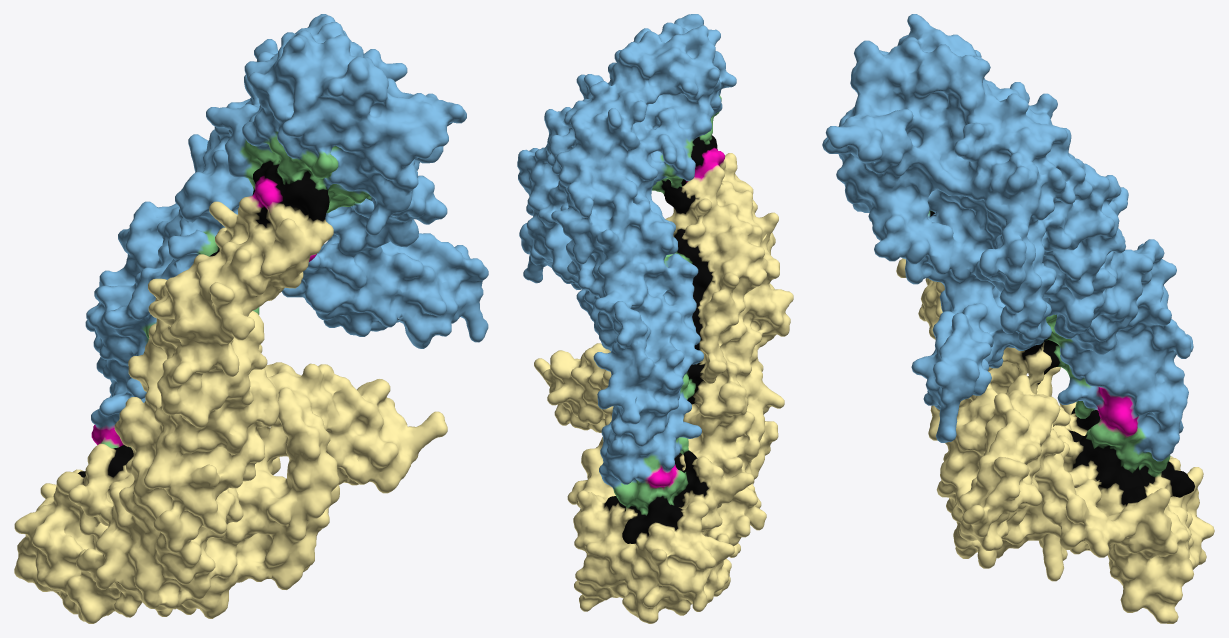
File: DimerInterface.glb
The picture shows the model from 3 angles, left to right: view 1: azimuth 30°, elevation 25°; view 2: azimuth 150°, elevation 25°; view 3: azimuth 270°, elevation 25°; orthographic projection. The views are drawn at different scales.
Visible parts, largest first — view 1: node-geom2, node-geom7, node-geom4, node-geom3, node-geom6, node-geom1, node-geom5, node-geom8, node-geom0; view 2: node-geom5, node-geom1, node-geom2, node-geom0, node-geom6, node-geom4, node-geom3, node-geom8, node-geom7; view 3: node-geom2, node-geom5, node-geom6, node-geom0, node-geom8, node-geom3, node-geom4, node-geom1, node-geom7.
Boxes of the visible parts, x1=… form: node-geom2: x1=54, y1=14, x2=466, y2=552; node-geom7: x1=43, y1=148, x2=453, y2=617; node-geom4: x1=14, y1=84, x2=488, y2=623; node-geom3: x1=14, y1=277, x2=355, y2=618; node-geom6: x1=53, y1=16, x2=453, y2=535; node-geom1: x1=57, y1=96, x2=443, y2=521; node-geom5: x1=25, y1=30, x2=488, y2=617; node-geom8: x1=14, y1=69, x2=419, y2=621; node-geom0: x1=92, y1=98, x2=366, y2=414; node-geom5: x1=518, y1=14, x2=778, y2=617; node-geom1: x1=518, y1=130, x2=774, y2=521; node-geom2: x1=517, y1=14, x2=788, y2=531; node-geom0: x1=527, y1=164, x2=717, y2=449; node-geom6: x1=541, y1=18, x2=770, y2=534; node-geom4: x1=519, y1=120, x2=793, y2=623; node-geom3: x1=567, y1=214, x2=793, y2=600; node-geom8: x1=543, y1=22, x2=779, y2=615; node-geom7: x1=517, y1=143, x2=790, y2=600; node-geom2: x1=822, y1=14, x2=1177, y2=516; node-geom5: x1=833, y1=14, x2=1192, y2=580; node-geom6: x1=823, y1=31, x2=1179, y2=515; node-geom0: x1=935, y1=157, x2=1193, y2=438; node-geom8: x1=893, y1=99, x2=1211, y2=623; node-geom3: x1=925, y1=278, x2=1203, y2=620; node-geom4: x1=896, y1=128, x2=1214, y2=623; node-geom1: x1=906, y1=135, x2=1187, y2=486; node-geom7: x1=919, y1=204, x2=1180, y2=611.
Size of the model in its own units: 82 by 140 by 82.71.
